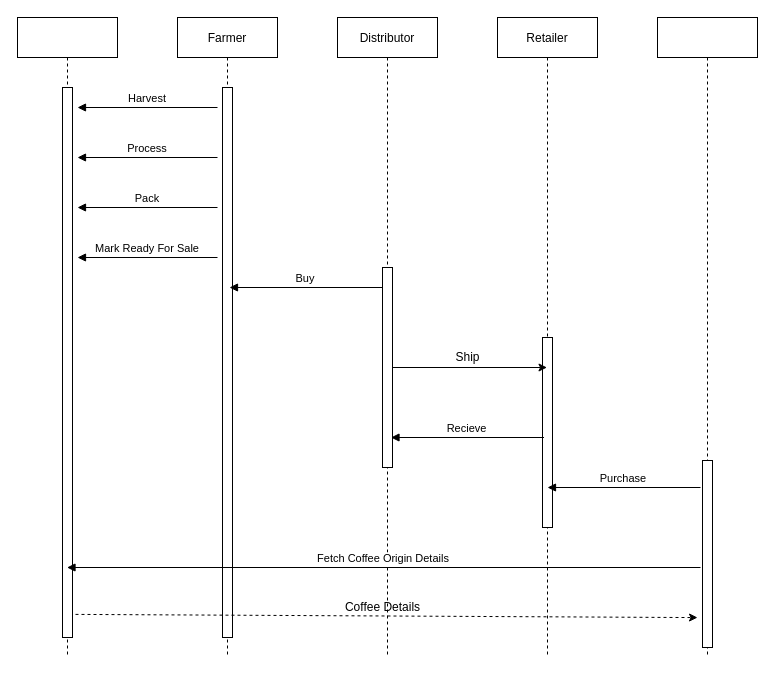
Image size: 775x675. Some labels were removed from this diagram. The box of each missing label's shape, as (x1, y1, x2, y2) in pixels:
Coffee Beans: (16, 16, 118, 658)
Consumer: (656, 16, 758, 658)
